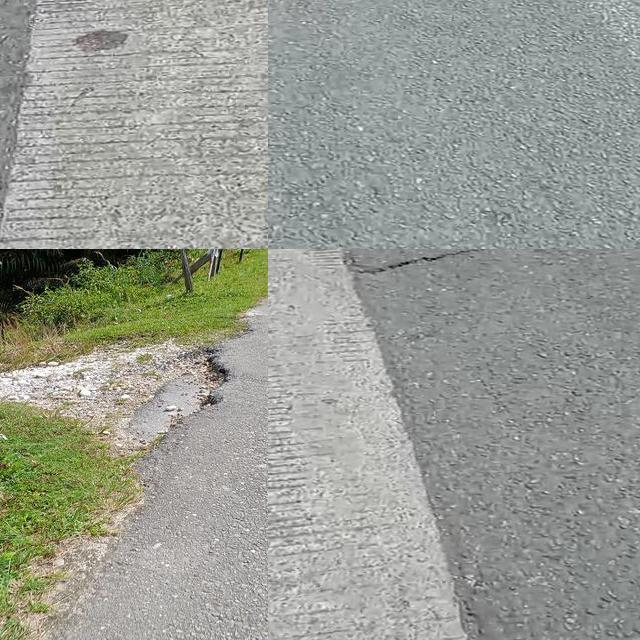Pinggir: (0, 297, 268, 640)
Sambungan: (268, 249, 480, 640), (0, 0, 268, 249)
